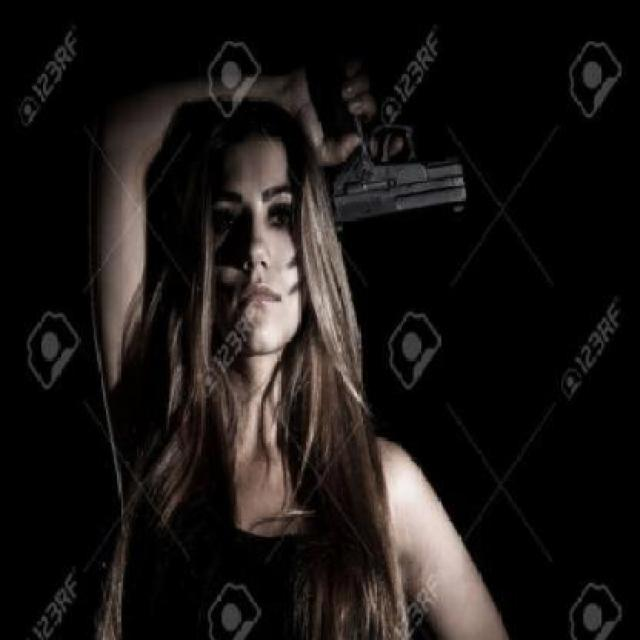gun: (310, 55, 486, 229)
